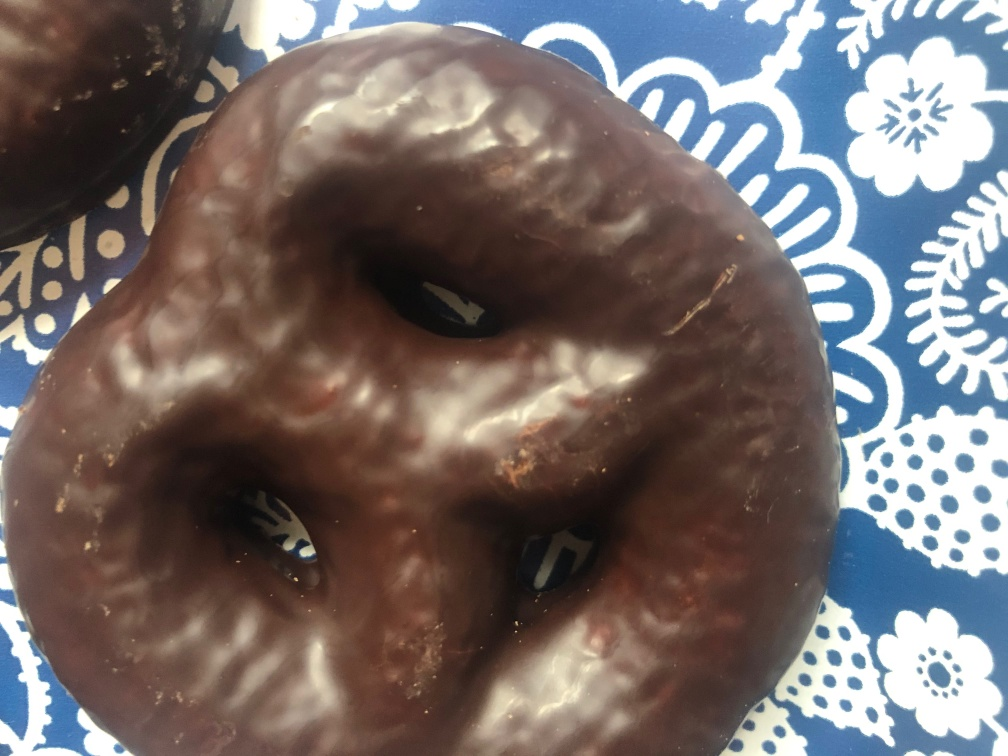bretzel: (2, 29, 836, 756)
